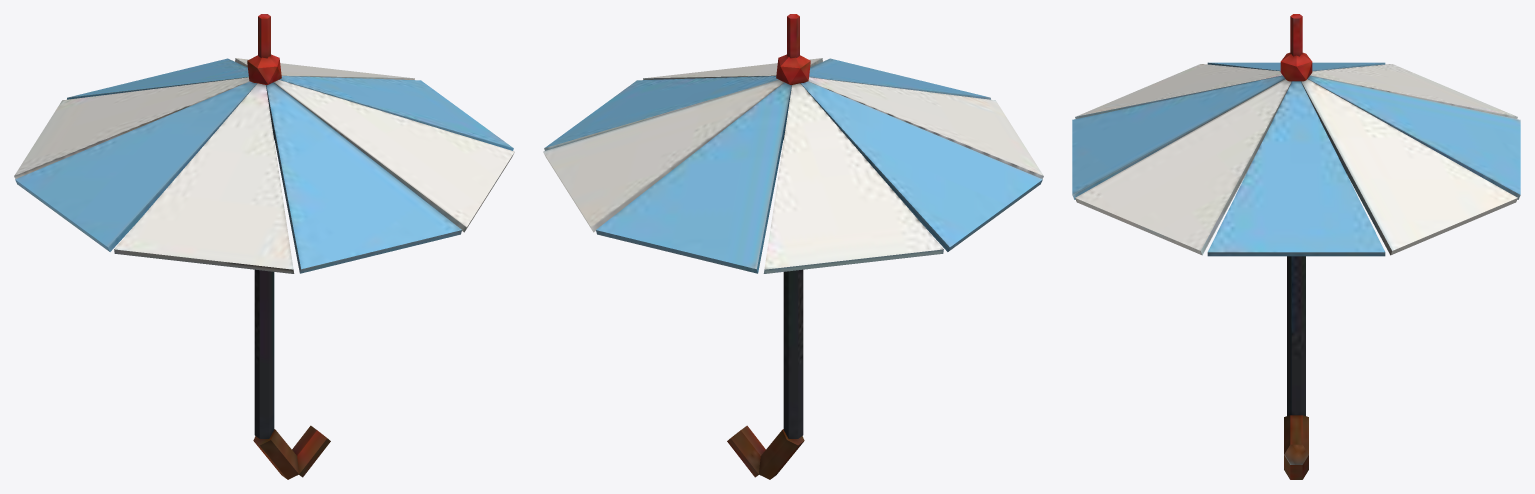
File: paraguas_vuelo.glb
3 views of the same model, side by side, from view 1: azimuth 30°, elevation 25°; view 2: azimuth 150°, elevation 25°; view 3: azimuth 270°, elevation 25° (orthographic). The views are drawn at different scales.
Parts seen in each view (by area): view 1: paraguas_vuelo; view 2: paraguas_vuelo; view 3: paraguas_vuelo.
Boxes of the visible parts, x1,y1,x2,y2 form: paraguas_vuelo: (14,14,514,479); paraguas_vuelo: (543,14,1043,479); paraguas_vuelo: (1072,14,1520,479).
Bounding box in the file's own units: 1.44 × 1.58 × 1.44.
Materials: 1 (1 with a texture image).
